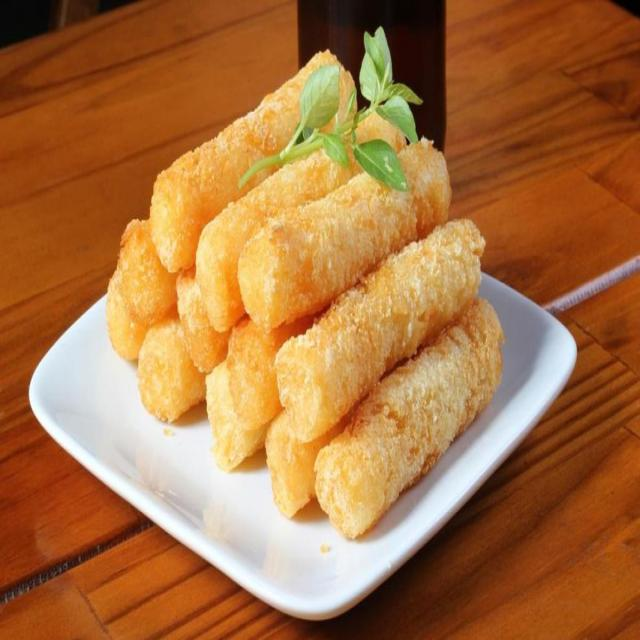yuca: (110, 63, 506, 538)
